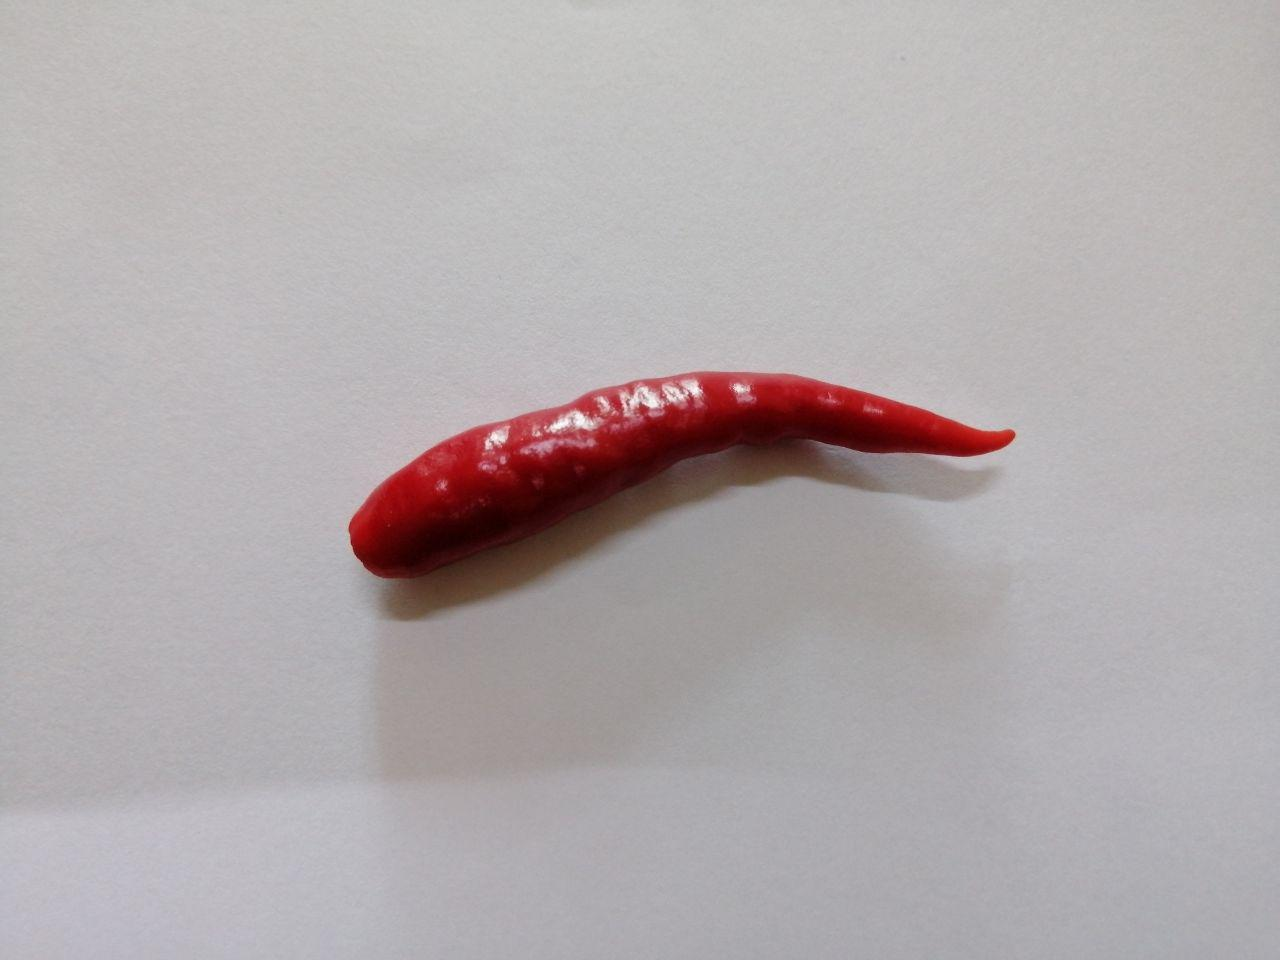lada merah: (328, 358, 1031, 597)
